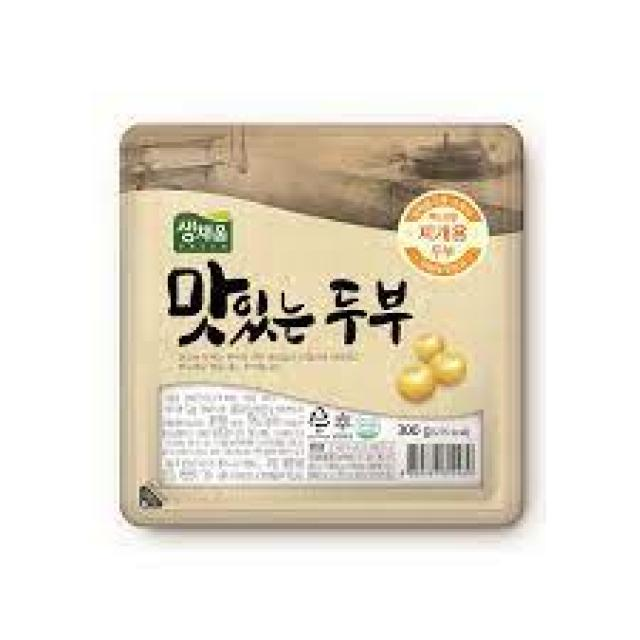tofu: (111, 111, 532, 540)
